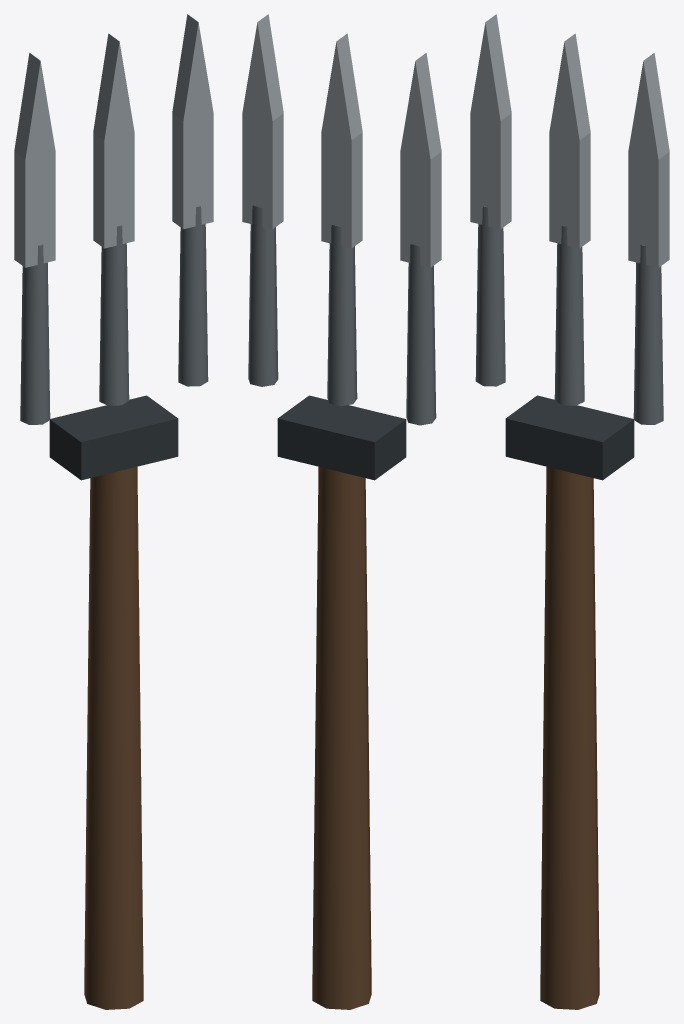
The model's file is trident.glb.
3 views of the same model, side by side, from view 1: azimuth 30°, elevation 25°; view 2: azimuth 150°, elevation 25°; view 3: azimuth 330°, elevation 25° (orthographic).
Visible parts, largest first — view 1: trident-shaft, trident-prong (×3), trident-prong-shaft (×3), trident-collar; view 2: trident-shaft, trident-prong (×3), trident-prong-shaft (×3), trident-collar; view 3: trident-shaft, trident-prong (×3), trident-prong-shaft (×3), trident-collar.
Part boxes in pixels (x1=…): trident-shaft: x1=84, y1=467, x2=143, y2=1009; trident-prong (×3): x1=14, y1=14, x2=213, y2=267; trident-prong-shaft (×3): x1=20, y1=206, x2=208, y2=424; trident-collar: x1=49, y1=395, x2=178, y2=480; trident-shaft: x1=312, y1=467, x2=371, y2=1009; trident-prong (×3): x1=242, y1=14, x2=441, y2=267; trident-prong-shaft (×3): x1=248, y1=205, x2=436, y2=425; trident-collar: x1=277, y1=395, x2=406, y2=480; trident-shaft: x1=540, y1=467, x2=599, y2=1009; trident-prong (×3): x1=470, y1=14, x2=669, y2=267; trident-prong-shaft (×3): x1=475, y1=206, x2=663, y2=424; trident-collar: x1=505, y1=395, x2=634, y2=480.
Bounding box in the file's own units: 0.31 × 1.51 × 0.09.
